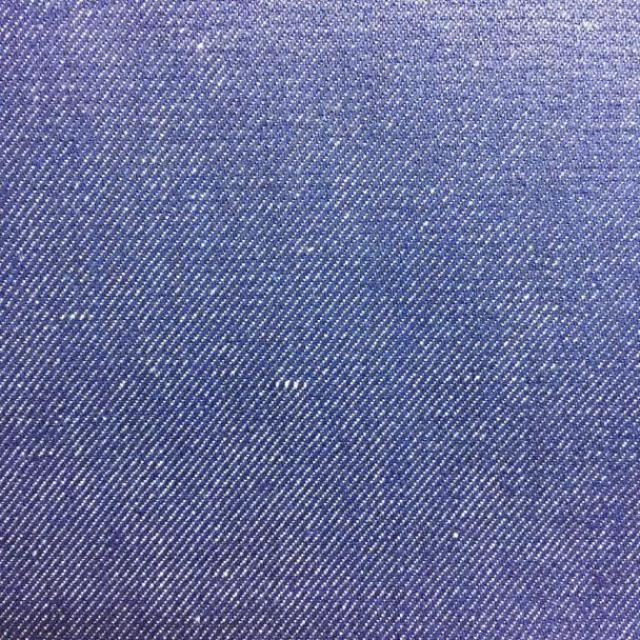Knot: (265, 378, 308, 393)
